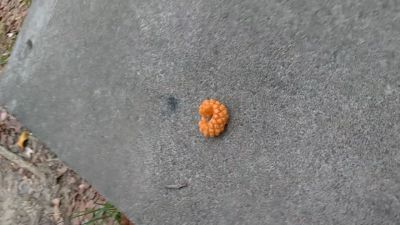eggs: (196, 98, 230, 139)
